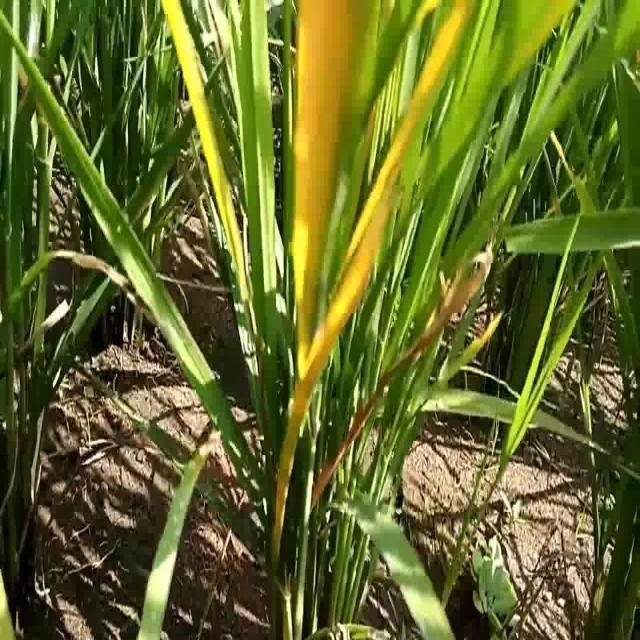Rice Tungro: (339, 1, 471, 292), (275, 3, 385, 341), (160, 1, 250, 295)
